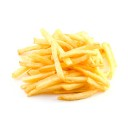frenchfries: (13, 27, 117, 99)
